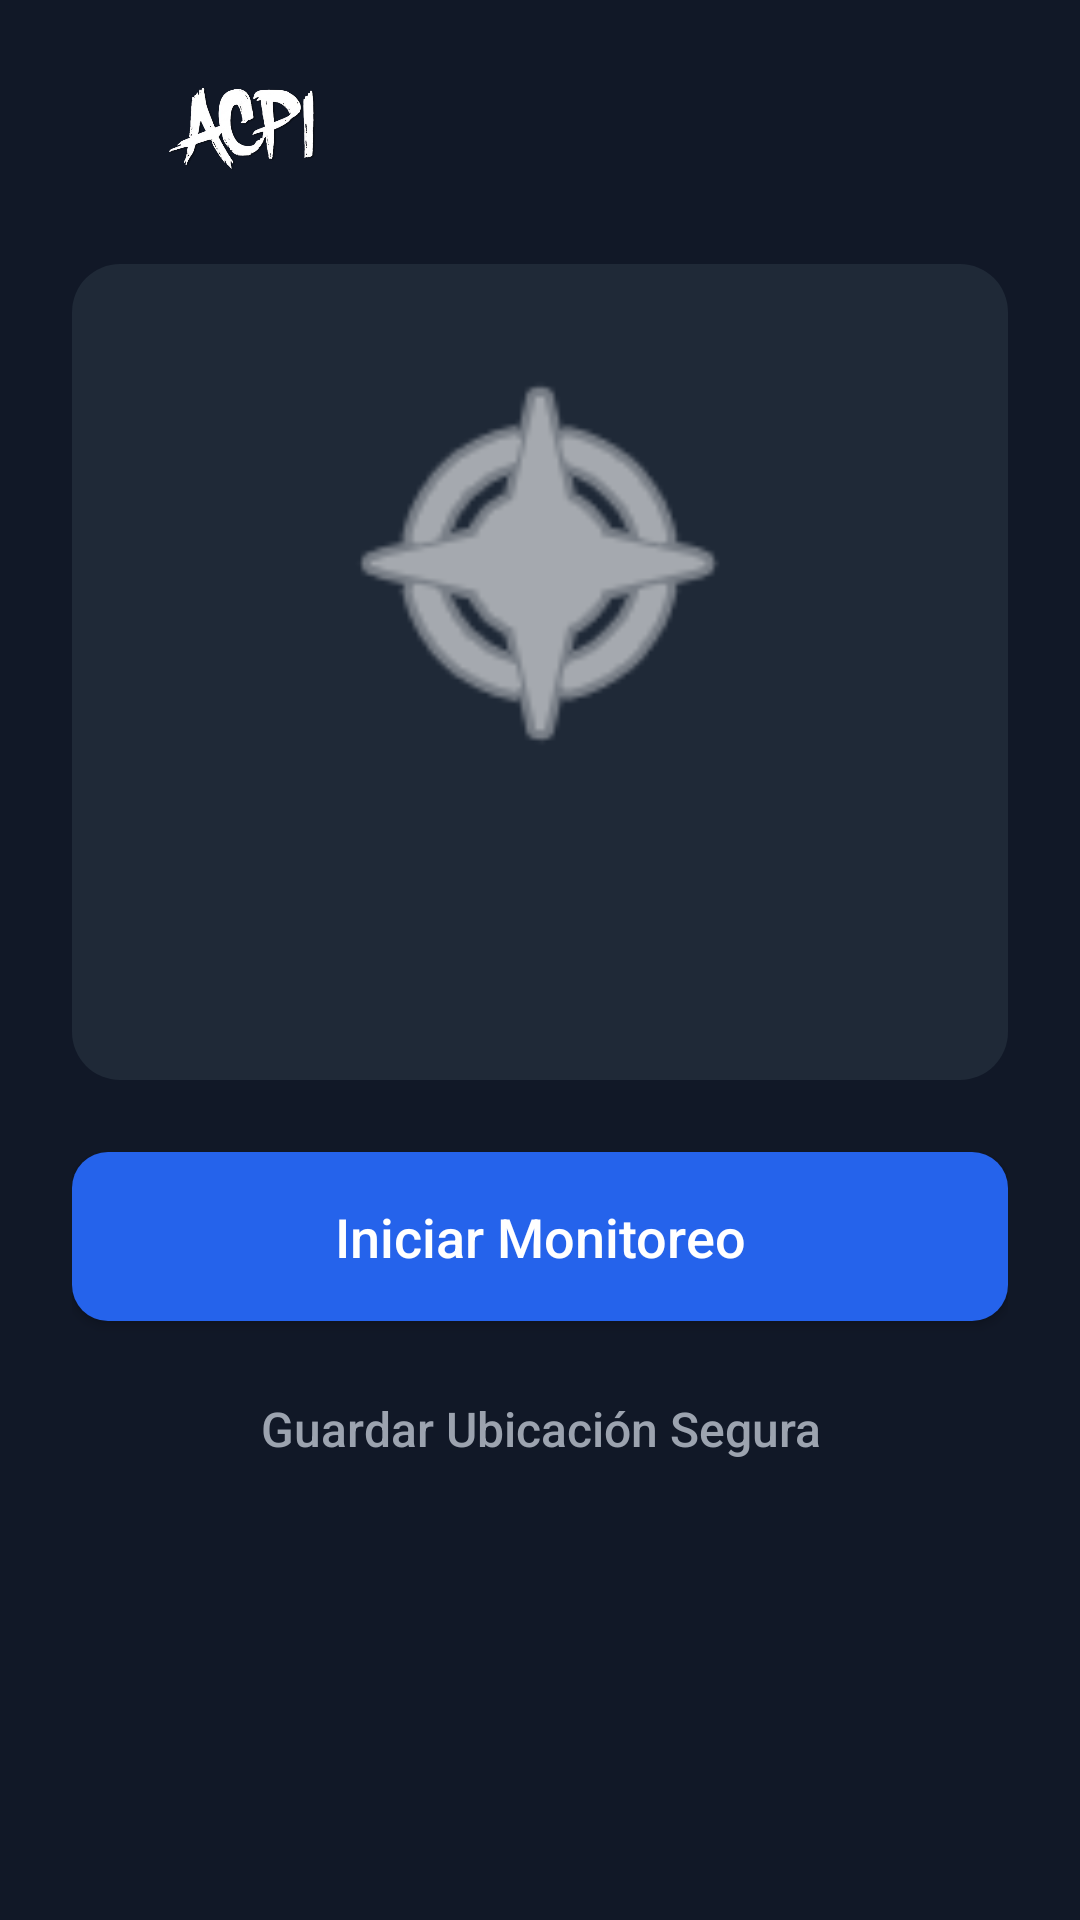

Locate icon controls on the screen. Image size 1080x1920, boxes as {"left": x1, "top": y1, "right": x2, "bottom": y2}.
compass: {"left": 361, "top": 386, "right": 717, "bottom": 741}
